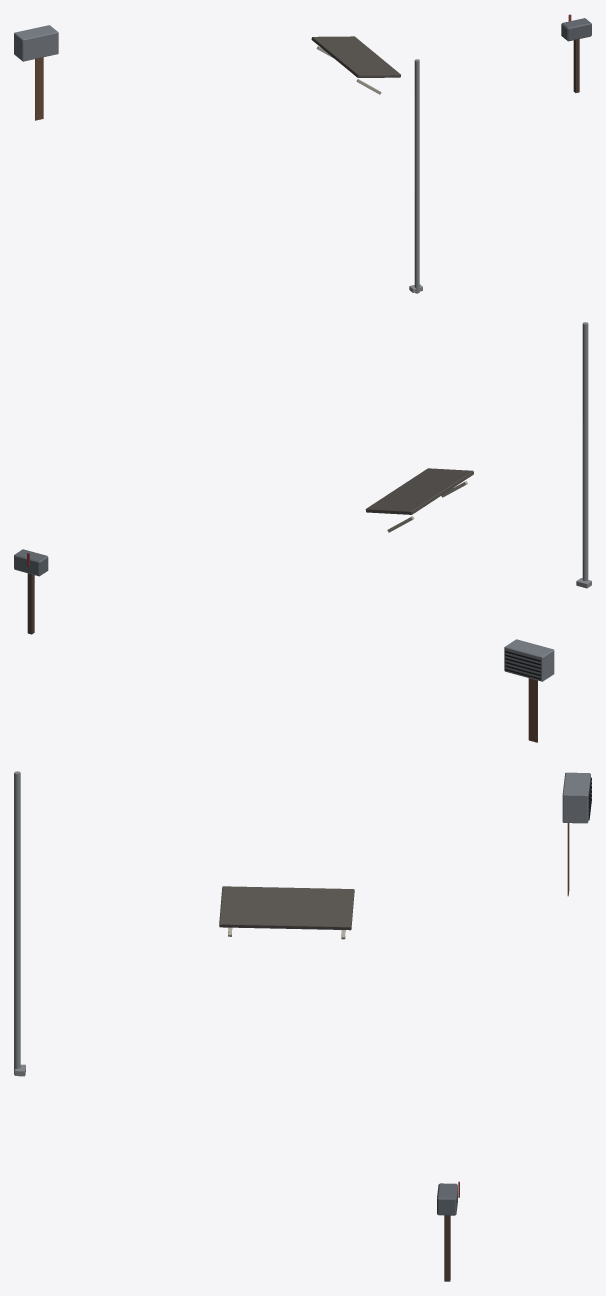
Rendered from house6_bits.glb.
3 views of the same model, one above another, from view 1: azimuth 30°, elevation 25°; view 2: azimuth 150°, elevation 25°; view 3: azimuth 270°, elevation 25° (orthographic). The views are drawn at different scales.
Visible parts, largest first — view 1: house6_bits; view 2: house6_bits; view 3: house6_bits.
Boxes of the visible parts, bbox=[...] form: house6_bits: bbox=[14, 14, 591, 293]; house6_bits: bbox=[14, 322, 591, 742]; house6_bits: bbox=[14, 771, 591, 1281].
Bounding box in the file's own units: 10.33 × 4.4 × 7.64.
